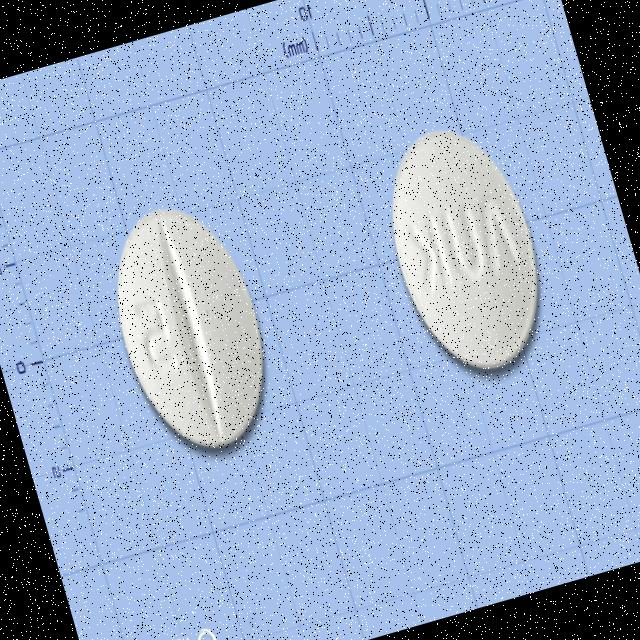Ciprox: (359, 104, 572, 398), (88, 188, 296, 472)
